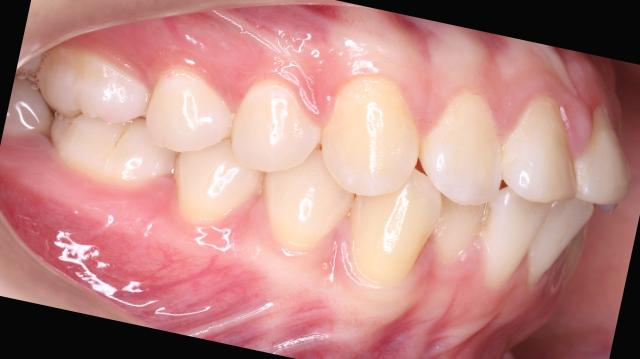canine class II 1/4: (249, 54, 466, 306)
molar class III 1/2: (14, 38, 193, 202)
